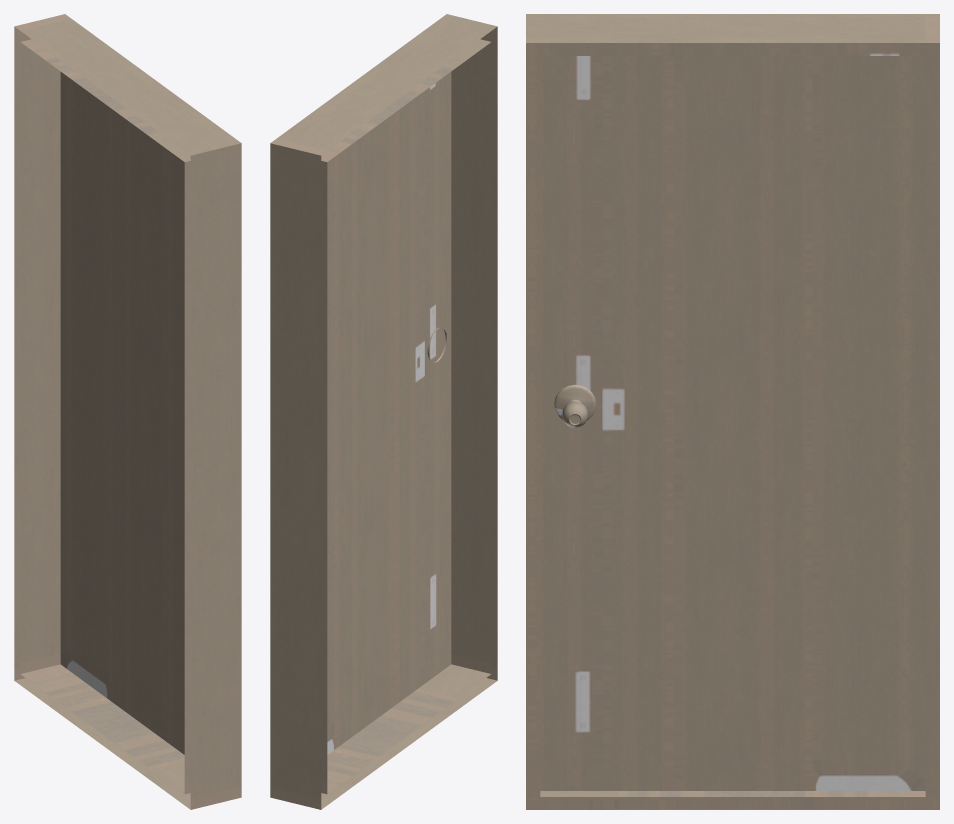
The model's file is FBX_Door.fbx.
The picture shows the model from 3 angles, left to right: view 1: azimuth 30°, elevation 25°; view 2: azimuth 150°, elevation 25°; view 3: azimuth 270°, elevation 25°; orthographic projection. The views are drawn at different scales.
Parts seen in each view (by area): view 1: SM_Door; view 2: SM_Door; view 3: SM_Door.
Boxes of the visible parts, <box> form: SM_Door: <box>14,14,241,809</box>; SM_Door: <box>270,14,497,809</box>; SM_Door: <box>526,14,939,809</box>.
Size of the model in its own units: 0.2244 by 2.06 by 1.01.
